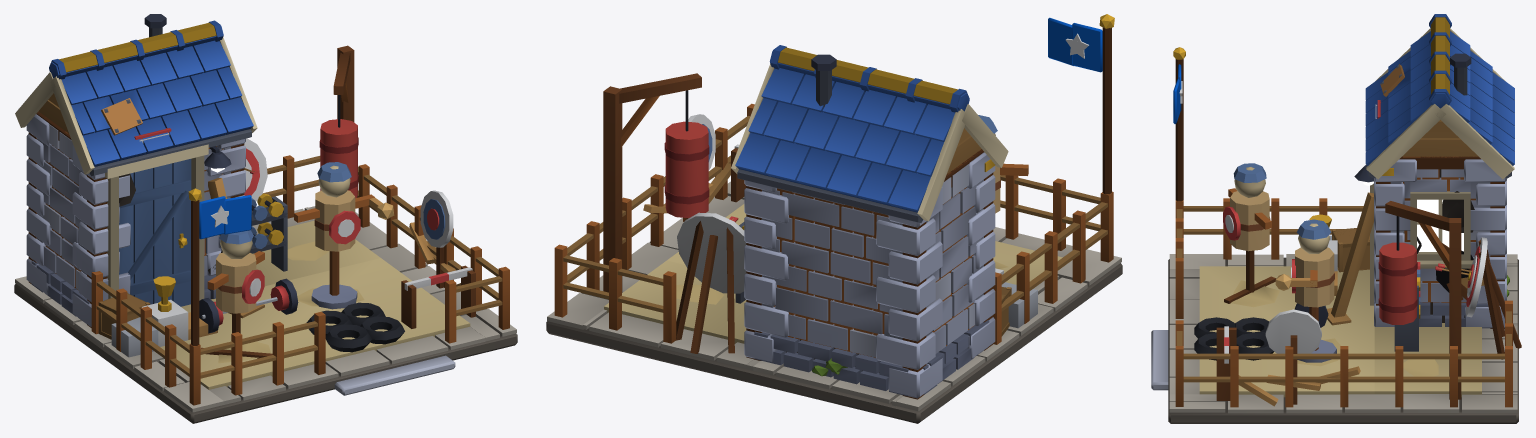
Rendered from b_training.glb.
3 renders of one model, left to right at view 1: azimuth 30°, elevation 25°; view 2: azimuth 150°, elevation 25°; view 3: azimuth 270°, elevation 25°, orthographic. The views are drawn at different scales.
Parts seen in each view (by area): view 1: body, lv4_huette, lv4_ausbau, spin_puppe, sway_sack, sway_flag, lvmax3_huette, dmg2_bruch; view 2: body, lv4_huette, sway_sack, lvmax3_huette, lv4_ausbau, sway_flag, dmg2_bruch; view 3: body, lv4_huette, lv4_ausbau, spin_puppe, dmg2_bruch, sway_sack, lvmax3_huette, win_glow, dmg1_spuren, sway_flag.
Part boxes in pixels (x1=…): body: x1=14, y1=14, x2=517, y2=423; lv4_huette: x1=26, y1=114, x2=245, y2=326; lv4_ausbau: x1=59, y1=22, x2=453, y2=357; spin_puppe: x1=294, y1=162, x2=394, y2=295; sway_sack: x1=319, y1=95, x2=358, y2=198; sway_flag: x1=199, y1=195, x2=251, y2=239; lvmax3_huette: x1=28, y1=111, x2=244, y2=327; dmg2_bruch: x1=208, y1=178, x2=460, y2=318; body: x1=546, y1=14, x2=1122, y2=423; lv4_huette: x1=744, y1=152, x2=995, y2=398; sway_sack: x1=664, y1=90, x2=709, y2=218; lvmax3_huette: x1=746, y1=149, x2=993, y2=399; lv4_ausbau: x1=686, y1=47, x2=1037, y2=328; sway_flag: x1=1048, y1=17, x2=1102, y2=72; dmg2_bruch: x1=643, y1=163, x2=730, y2=213; body: x1=1151, y1=14, x2=1521, y2=423; lv4_huette: x1=1374, y1=159, x2=1506, y2=328; lv4_ausbau: x1=1265, y1=17, x2=1449, y2=404; spin_puppe: x1=1275, y1=219, x2=1334, y2=350; dmg2_bruch: x1=1229, y1=192, x2=1473, y2=406; sway_sack: x1=1378, y1=216, x2=1417, y2=324; lvmax3_huette: x1=1376, y1=156, x2=1504, y2=328; win_glow: x1=1417, y1=199, x2=1463, y2=251; dmg1_spuren: x1=1417, y1=191, x2=1474, y2=253; sway_flag: x1=1173, y1=64, x2=1182, y2=123.
Size of the model in its own units: 5.51 by 4.35 by 5.51.
